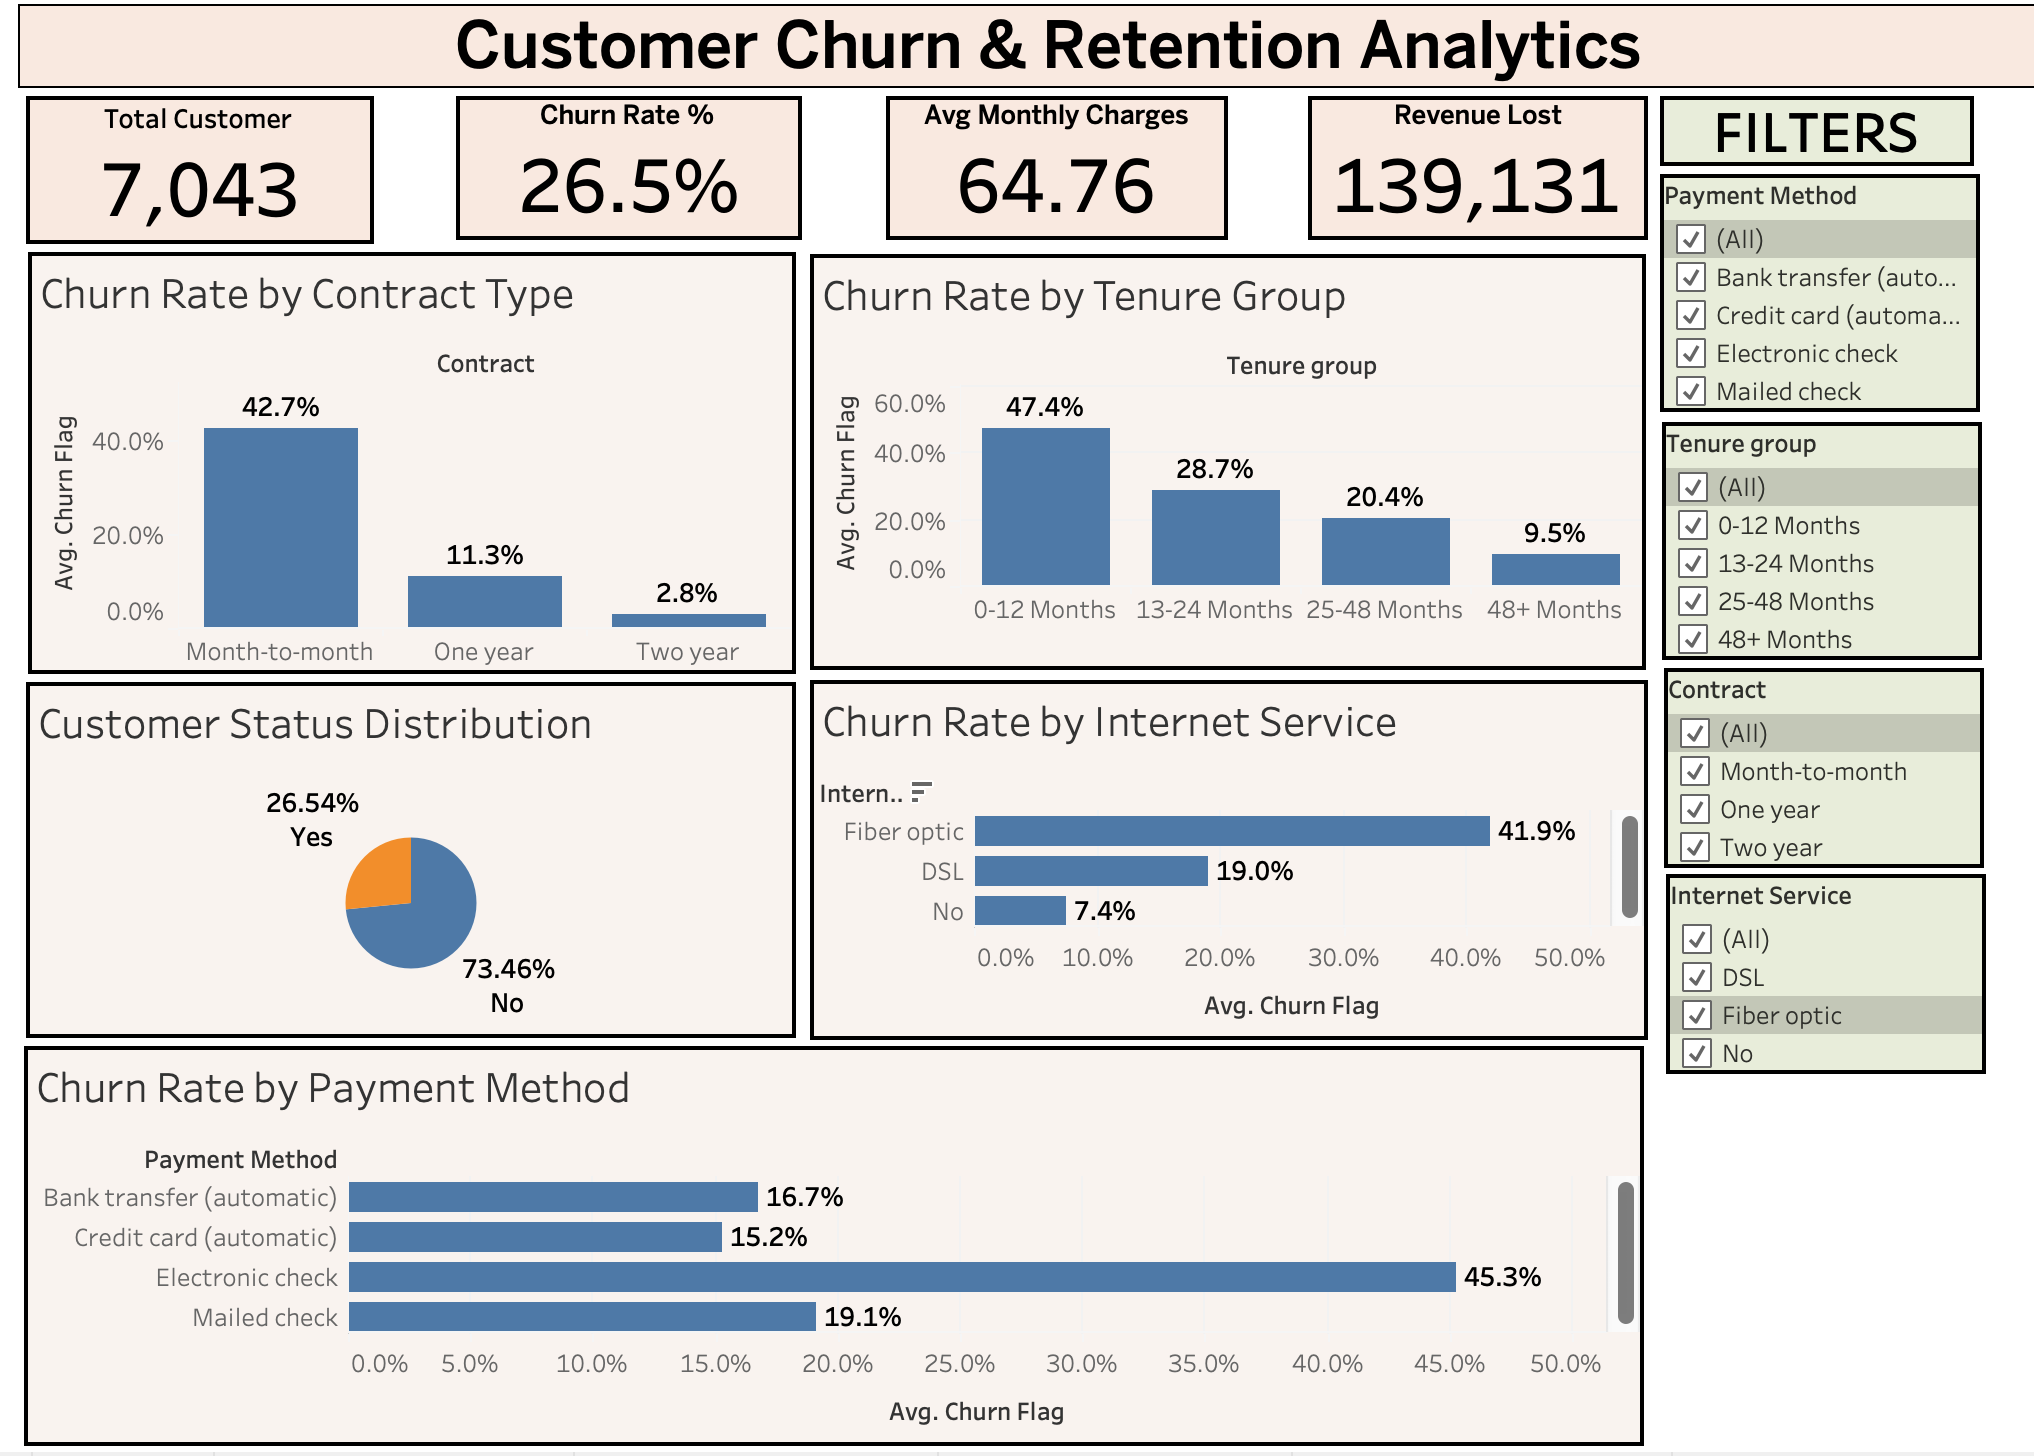

Layout of this report page (visuals, bound fields, positions):
{"tool":"tableau","page":{"name":"Dashboard 1","canvas":[1200,800],"ordinal":0},"visuals":[{"type":"text","box":[0,6,1031,42]},{"type":"worksheet","title":"Total Customer","mark":"Text","box":[4,52,174,74]},{"type":"worksheet","title":"Churn Rate %","mark":"Text","box":[219,52,173,72]},{"type":"worksheet","title":"Avg Monthly Charges","mark":"Automatic","box":[434,52,171,72]},{"type":"worksheet","title":"Revenue Lost","mark":"Automatic","box":[645,52,170,72]},{"type":"text","box":[821,52,157,35]},{"type":"filter","title":"Churn Rate by Payment Method","param":"[federated.0s36qxk1x7gdge1bkn3ia14vz0qg].[none:PaymentMethod:nk]","box":[821,91,160,119]},{"type":"worksheet","title":"Churn Rate by Contract Type","mark":"Automatic","rows":["Calculation_5580724860575745"],"cols":["Contract"],"box":[5,130,384,211]},{"type":"worksheet","title":"Churn Rate by Tenure Group","mark":"Automatic","rows":["Calculation_5580724860575745"],"cols":["Calculation_5580724862226436"],"box":[396,131,418,208]},{"type":"filter","title":"Churn Rate by Tenure Group","param":"[federated.0s36qxk1x7gdge1bkn3ia14vz0qg].[none:Calculation_5580724862226436:nk]","box":[822,215,160,119]},{"type":"filter","title":"Churn Rate by Contract Type","param":"[federated.0s36qxk1x7gdge1bkn3ia14vz0qg].[none:Contract:nk]","box":[823,338,160,100]},{"type":"worksheet","title":"Churn Rate by Internet Service","mark":"Automatic","rows":["InternetService"],"cols":["Calculation_5580724860575745"],"box":[396,344,419,180]},{"type":"worksheet","title":"Customer Status Distribution","mark":"Pie","box":[4,345,385,178]},{"type":"filter","title":"Churn Rate by Internet Service","param":"[federated.0s36qxk1x7gdge1bkn3ia14vz0qg].[none:InternetService:nk]","box":[824,441,160,100]},{"type":"worksheet","title":"Churn Rate by Payment Method","mark":"Automatic","rows":["PaymentMethod"],"cols":["Calculation_5580724860575745"],"box":[3,527,810,200]}]}

Visuals, with their boxes on the page's 1200x800 design canvas (x1, y1, x2, y2). These are canvas units, not pixel positions in the 2034x1456 screenshot, which may show the page scaled, cropped or inside an application window:
text: x1=0, y1=6, x2=1031, y2=48
"Total Customer" worksheet (Text marks): x1=4, y1=52, x2=178, y2=126
"Churn Rate %" worksheet (Text marks): x1=219, y1=52, x2=392, y2=124
"Avg Monthly Charges" worksheet: x1=434, y1=52, x2=605, y2=124
"Revenue Lost" worksheet: x1=645, y1=52, x2=815, y2=124
text: x1=821, y1=52, x2=978, y2=87
"Churn Rate by Payment Method" filter: x1=821, y1=91, x2=981, y2=210
"Churn Rate by Contract Type" worksheet: x1=5, y1=130, x2=389, y2=341
"Churn Rate by Tenure Group" worksheet: x1=396, y1=131, x2=814, y2=339
"Churn Rate by Tenure Group" filter: x1=822, y1=215, x2=982, y2=334
"Churn Rate by Contract Type" filter: x1=823, y1=338, x2=983, y2=438
"Churn Rate by Internet Service" worksheet: x1=396, y1=344, x2=815, y2=524
"Customer Status Distribution" worksheet (Pie marks): x1=4, y1=345, x2=389, y2=523
"Churn Rate by Internet Service" filter: x1=824, y1=441, x2=984, y2=541
"Churn Rate by Payment Method" worksheet: x1=3, y1=527, x2=813, y2=727
